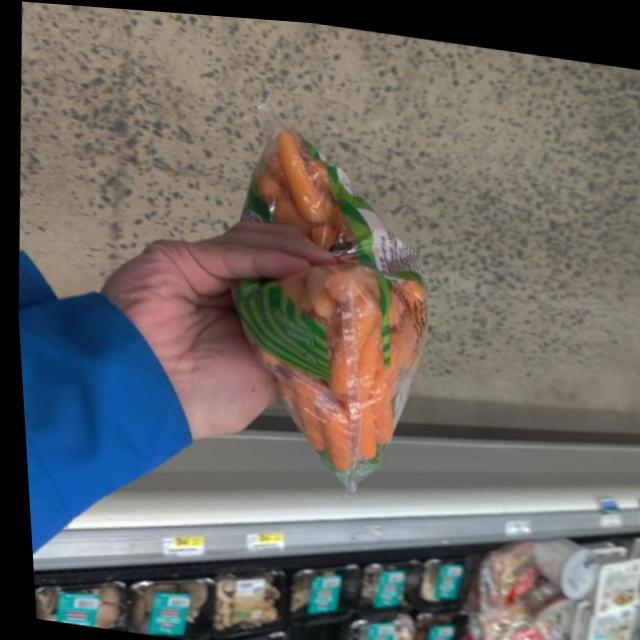Carrots: (198, 108, 450, 496)
Mushrooms: (116, 561, 207, 639), (26, 567, 124, 630), (206, 565, 282, 634), (281, 548, 352, 621), (353, 552, 418, 611)
